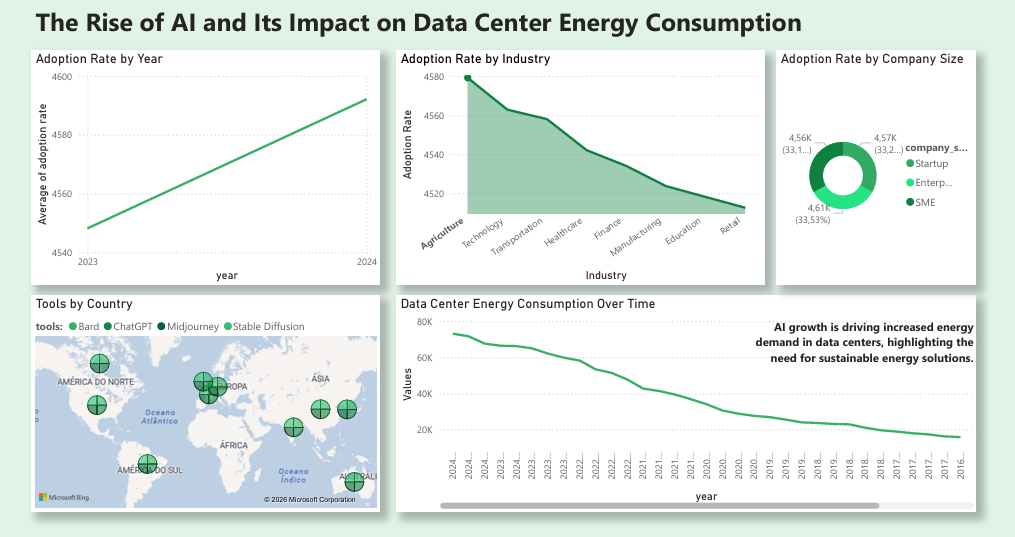

What the dashboard file says about the page in this screenshot:
{"tool":"powerbi","page":{"name":"Page 1","canvas":[1280,720],"ordinal":0},"visuals":[{"type":"lineChart","title":"Adoption Rate by Year","fields":{"Category":["ai_adoption_dataset.year"],"Y":["Avg(ai_adoption_dataset.adoption_rate)"]},"box":[41.7,80,450,303.3],"z":0},{"type":"map","title":"Tools by Country","fields":{"Category":["ai_adoption_dataset.country"],"Series":["ai_adoption_dataset.ai_tool"],"Size":["Count(ai_adoption_dataset.country)"]},"box":[41.7,395,450,280],"z":1000},{"type":"stackedAreaChart","fields":{"Category":["ai_adoption_dataset.industry"],"Y":["Avg(ai_adoption_dataset.adoption_rate)"]},"box":[511.7,80,475,303.3],"z":2000},{"type":"lineChart","title":"Data Center Energy Consumption Over Time","fields":{"Y":["Sum(MEC02 20260316203407.dataCentresValues)"],"Category":["MEC02 20260316203407.TLIST(Q1)"]},"box":[511.7,395,748.3,280],"z":3000},{"type":"donutChart","title":"Adoption Rate by Company Size","fields":{"Category":["ai_adoption_dataset.company_size"],"Y":["Avg(ai_adoption_dataset.adoption_rate)"]},"box":[1003.3,80,256.7,303.3],"z":4000},{"type":"textbox","box":[41.7,13.3,1020,53.3],"z":5000},{"type":"textbox","box":[960,420,300,115],"z":6000}]}

Visuals, with their boxes in screenshot pixels (x1, y1, x2, y2):
"Adoption Rate by Year" lineChart: <region>45, 61, 388, 292</region>
"Tools by Country" map: <region>45, 301, 388, 514</region>
stackedAreaChart - ai_adoption_dataset.industry x Avg(ai_adoption_dataset.adoption_rate): <region>403, 61, 765, 292</region>
"Data Center Energy Consumption Over Time" lineChart: <region>403, 301, 973, 514</region>
"Adoption Rate by Company Size" donutChart: <region>778, 61, 973, 292</region>
textbox: <region>45, 10, 822, 51</region>
textbox: <region>745, 320, 973, 408</region>
